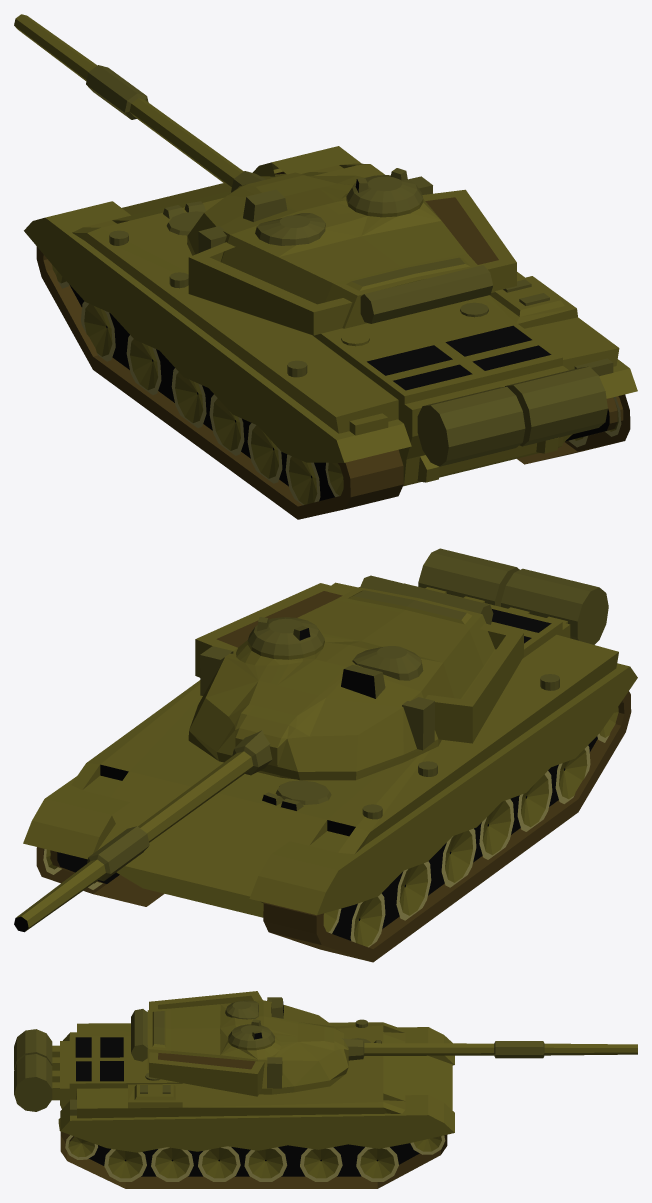
The model's file is type96.glb.
3 renders of one model, top to bottom at view 1: azimuth 30°, elevation 25°; view 2: azimuth 150°, elevation 25°; view 3: azimuth 270°, elevation 25°, orthographic. The views are drawn at different scales.
Parts seen in each view (by area): view 1: hull.002, TYPE_96_TURRET.001, barrel; view 2: hull.002, TYPE_96_TURRET.001, barrel; view 3: hull.002, TYPE_96_TURRET.001, barrel.
Boxes of the visible parts, left/top/right/bottom form: hull.002: left=24, top=146, right=637, bottom=519; TYPE_96_TURRET.001: left=187, top=168, right=516, bottom=335; barrel: left=14, top=14, right=266, bottom=192; hull.002: left=23, top=548, right=637, bottom=962; TYPE_96_TURRET.001: left=188, top=575, right=523, bottom=780; barrel: left=14, top=730, right=272, bottom=932; hull.002: left=14, top=1019, right=454, bottom=1188; TYPE_96_TURRET.001: left=131, top=991, right=348, bottom=1096; barrel: left=342, top=1038, right=637, bottom=1060.
Bounding box in the file's own units: 0.3343 × 0.2394 × 1.
